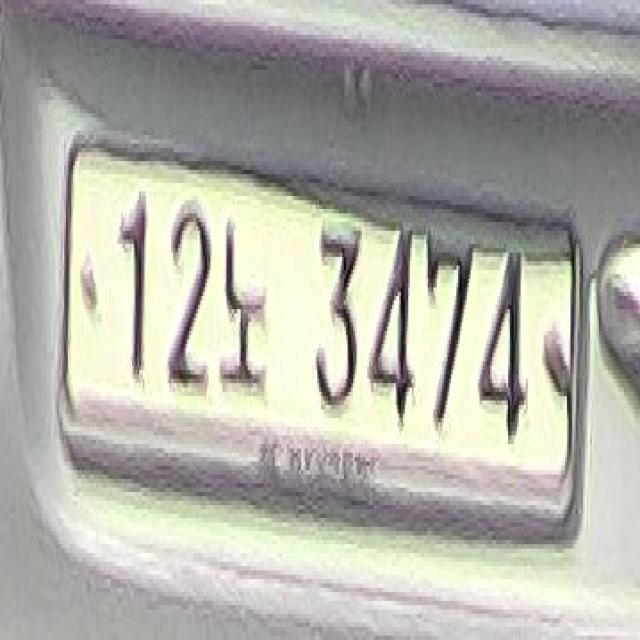1: (110, 174, 157, 388)
2: (164, 187, 214, 401)
3: (305, 200, 365, 418)
4: (476, 244, 533, 457), (365, 218, 419, 435)
7: (419, 218, 478, 452)
license_plate: (50, 109, 592, 583)
no: (219, 196, 271, 418)
